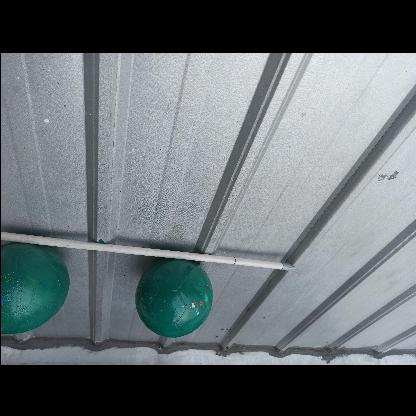green_ball: (0, 232, 68, 330), (134, 258, 214, 338)
